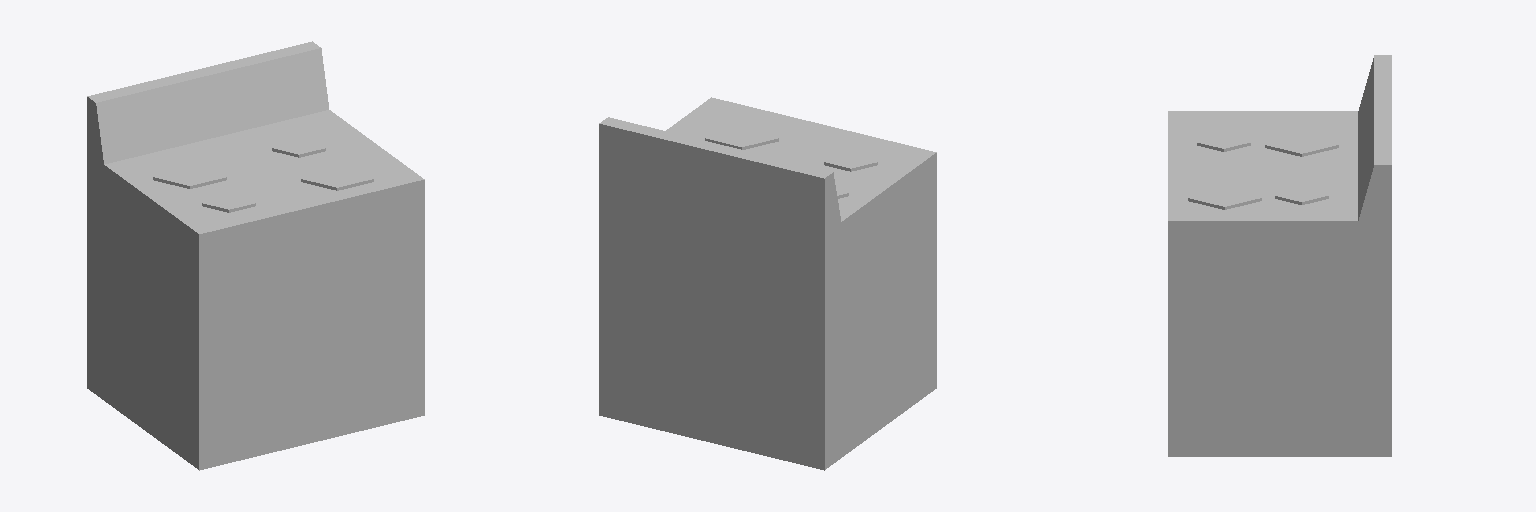
The model's file is stove.obj.
3 views of the same model, side by side, from view 1: azimuth 30°, elevation 25°; view 2: azimuth 150°, elevation 25°; view 3: azimuth 270°, elevation 25° (orthographic).
Visible parts, largest first — view 1: stove_model:stoveBody_geo stove_model:stove_grp, stove_model:stove_grp stove_model:stoveBurnerLarge1_geo, stove_model:stove_grp stove_model:stoveBurnerLarge2_geo1, stove_model:stove_grp stove_model:stoveBurnerSmall1_geo, stove_model:stove_grp stove_model:stoveBurnerSmall2_geo; view 2: stove_model:stoveBody_geo stove_model:stove_grp, stove_model:stove_grp stove_model:stoveBurnerLarge2_geo1, stove_model:stove_grp stove_model:stoveBurnerSmall2_geo; view 3: stove_model:stoveBody_geo stove_model:stove_grp, stove_model:stove_grp stove_model:stoveBurnerLarge2_geo1, stove_model:stove_grp stove_model:stoveBurnerLarge1_geo, stove_model:stove_grp stove_model:stoveBurnerSmall2_geo, stove_model:stove_grp stove_model:stoveBurnerSmall1_geo.
Part boxes in pixels (x1,y1,x2,y2): stove_model:stoveBody_geo stove_model:stove_grp: (87, 41, 424, 470); stove_model:stove_grp stove_model:stoveBurnerLarge1_geo: (153, 150, 226, 188); stove_model:stove_grp stove_model:stoveBurnerLarge2_geo1: (301, 152, 373, 190); stove_model:stove_grp stove_model:stoveBurnerSmall1_geo: (272, 129, 325, 157); stove_model:stove_grp stove_model:stoveBurnerSmall2_geo: (202, 184, 255, 212); stove_model:stoveBody_geo stove_model:stove_grp: (599, 97, 936, 470); stove_model:stove_grp stove_model:stoveBurnerLarge2_geo1: (705, 112, 778, 149); stove_model:stove_grp stove_model:stoveBurnerSmall2_geo: (824, 143, 877, 171); stove_model:stoveBody_geo stove_model:stove_grp: (1168, 55, 1391, 456); stove_model:stove_grp stove_model:stoveBurnerLarge2_geo1: (1188, 171, 1261, 209); stove_model:stove_grp stove_model:stoveBurnerLarge1_geo: (1265, 118, 1338, 156); stove_model:stove_grp stove_model:stoveBurnerSmall2_geo: (1197, 123, 1250, 151); stove_model:stove_grp stove_model:stoveBurnerSmall1_geo: (1275, 176, 1328, 204).
Size of the model in its own units: 2.89 by 3.57 by 2.49.